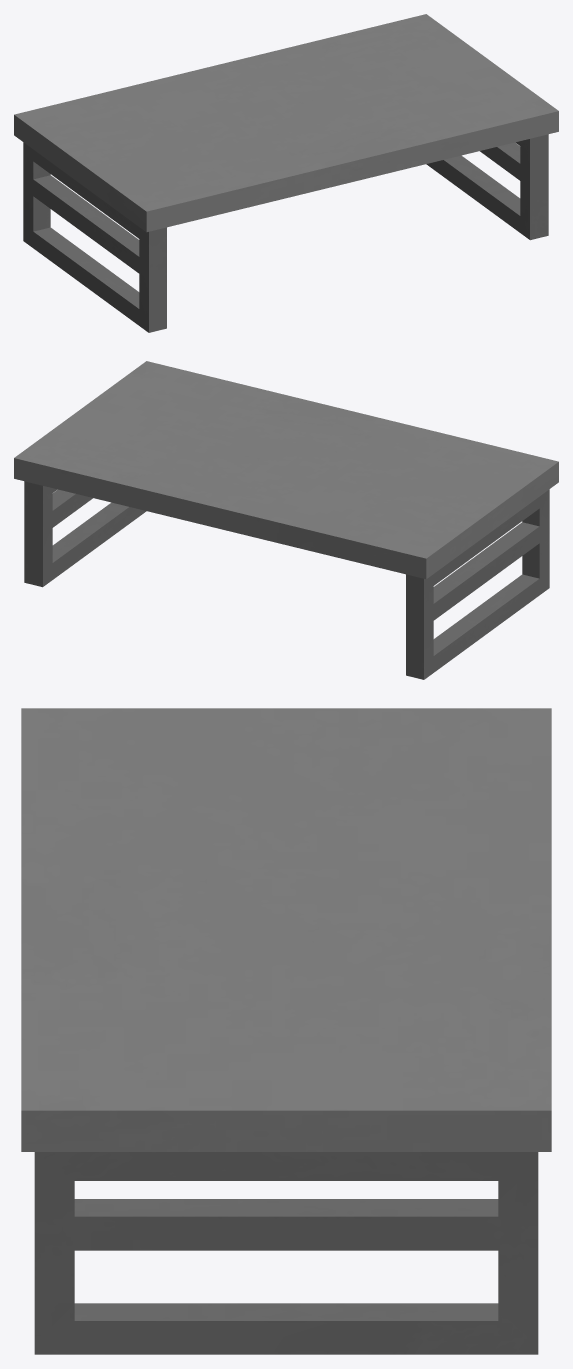
The model's file is Pfb_Table__8.fbx.
The picture shows the model from 3 angles, top to bottom: view 1: azimuth 30°, elevation 25°; view 2: azimuth 150°, elevation 25°; view 3: azimuth 270°, elevation 25°; orthographic projection. The views are drawn at different scales.
Parts seen in each view (by area): view 1: Mat_Table_02_White_JLAB; view 2: Mat_Table_02_White_JLAB; view 3: Mat_Table_02_White_JLAB.
Part boxes in pixels (x1,y1,x2,y2): Mat_Table_02_White_JLAB: (14,14,558,332); Mat_Table_02_White_JLAB: (14,361,558,679); Mat_Table_02_White_JLAB: (21,708,551,1354).
Bounding box in the file's own units: 2.23 × 0.6468 × 1.24.
1 material, 1 textured.
